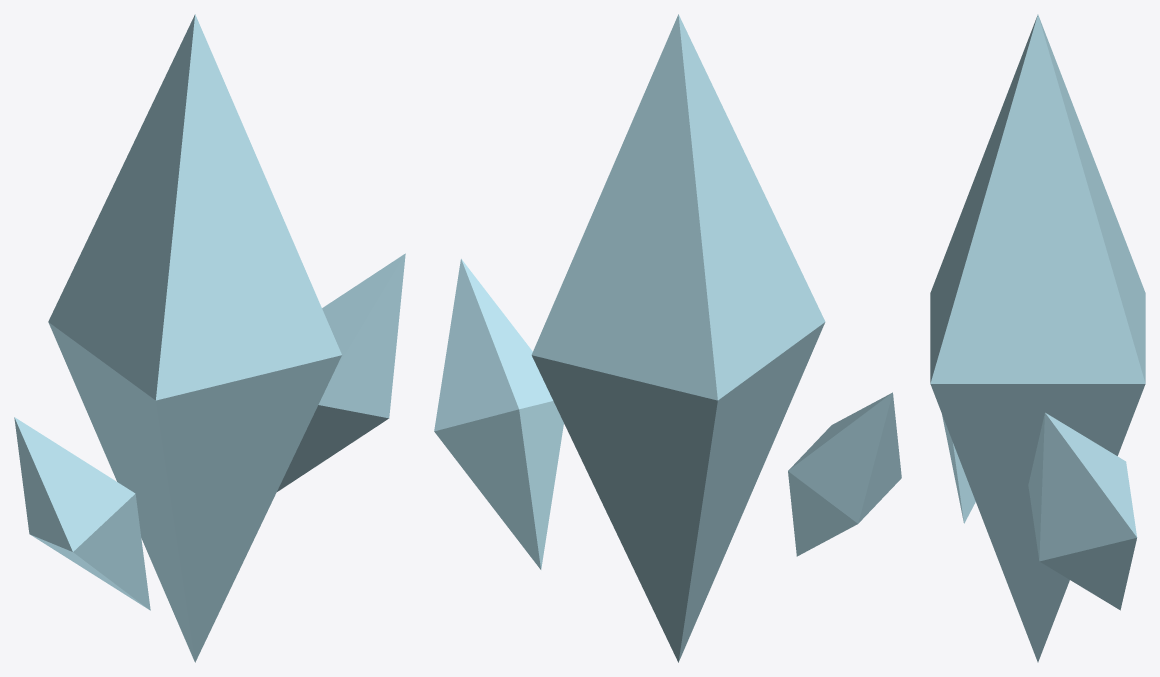
The model's file is Shard.fbx.
The picture shows the model from 3 angles, left to right: view 1: azimuth 30°, elevation 25°; view 2: azimuth 150°, elevation 25°; view 3: azimuth 270°, elevation 25°; orthographic projection.
Parts seen in each view (by area): view 1: Shard; view 2: Shard; view 3: Shard.
Boxes of the visible parts, x1,y1,x2,y2 form: Shard: (14, 14, 405, 662); Shard: (434, 14, 901, 662); Shard: (930, 14, 1145, 662).
Bounding box in the file's own units: 0.5311 × 0.8 × 0.2404.
